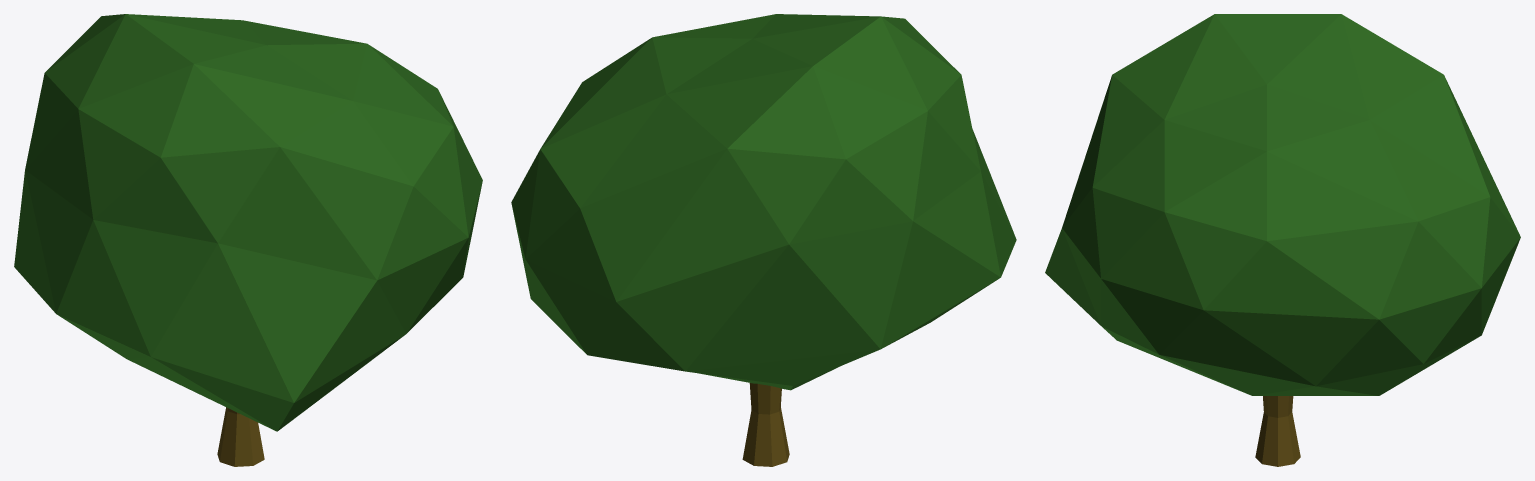
Rendered from Bush3.1.fbx.
The picture shows the model from 3 angles, left to right: view 1: azimuth 30°, elevation 25°; view 2: azimuth 150°, elevation 25°; view 3: azimuth 270°, elevation 25°; orthographic projection. The views are drawn at different scales.
Parts seen in each view (by area): view 1: Bush3.1; view 2: Bush3.1; view 3: Bush3.1.
Part boxes in pixels (x1=…): Bush3.1: x1=14, y1=14, x2=482, y2=466; Bush3.1: x1=511, y1=14, x2=1016, y2=466; Bush3.1: x1=1045, y1=14, x2=1520, y2=466.
Bounding box in the file's own units: 115 × 117 × 124.
